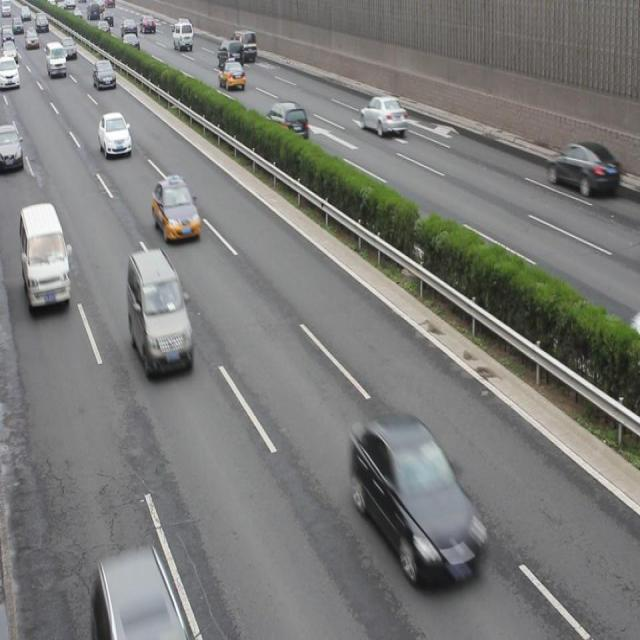car: (348, 410, 486, 578), (92, 550, 197, 640), (544, 143, 620, 201), (153, 177, 201, 241), (359, 95, 407, 136), (264, 104, 308, 140), (99, 112, 130, 158), (1, 124, 23, 172), (220, 58, 246, 94), (93, 58, 114, 89), (1, 57, 20, 91), (60, 34, 77, 60), (122, 31, 140, 50)
truck: (125, 250, 193, 377), (19, 202, 73, 312), (218, 39, 244, 74), (233, 30, 257, 65), (46, 39, 67, 77), (172, 22, 192, 49)
